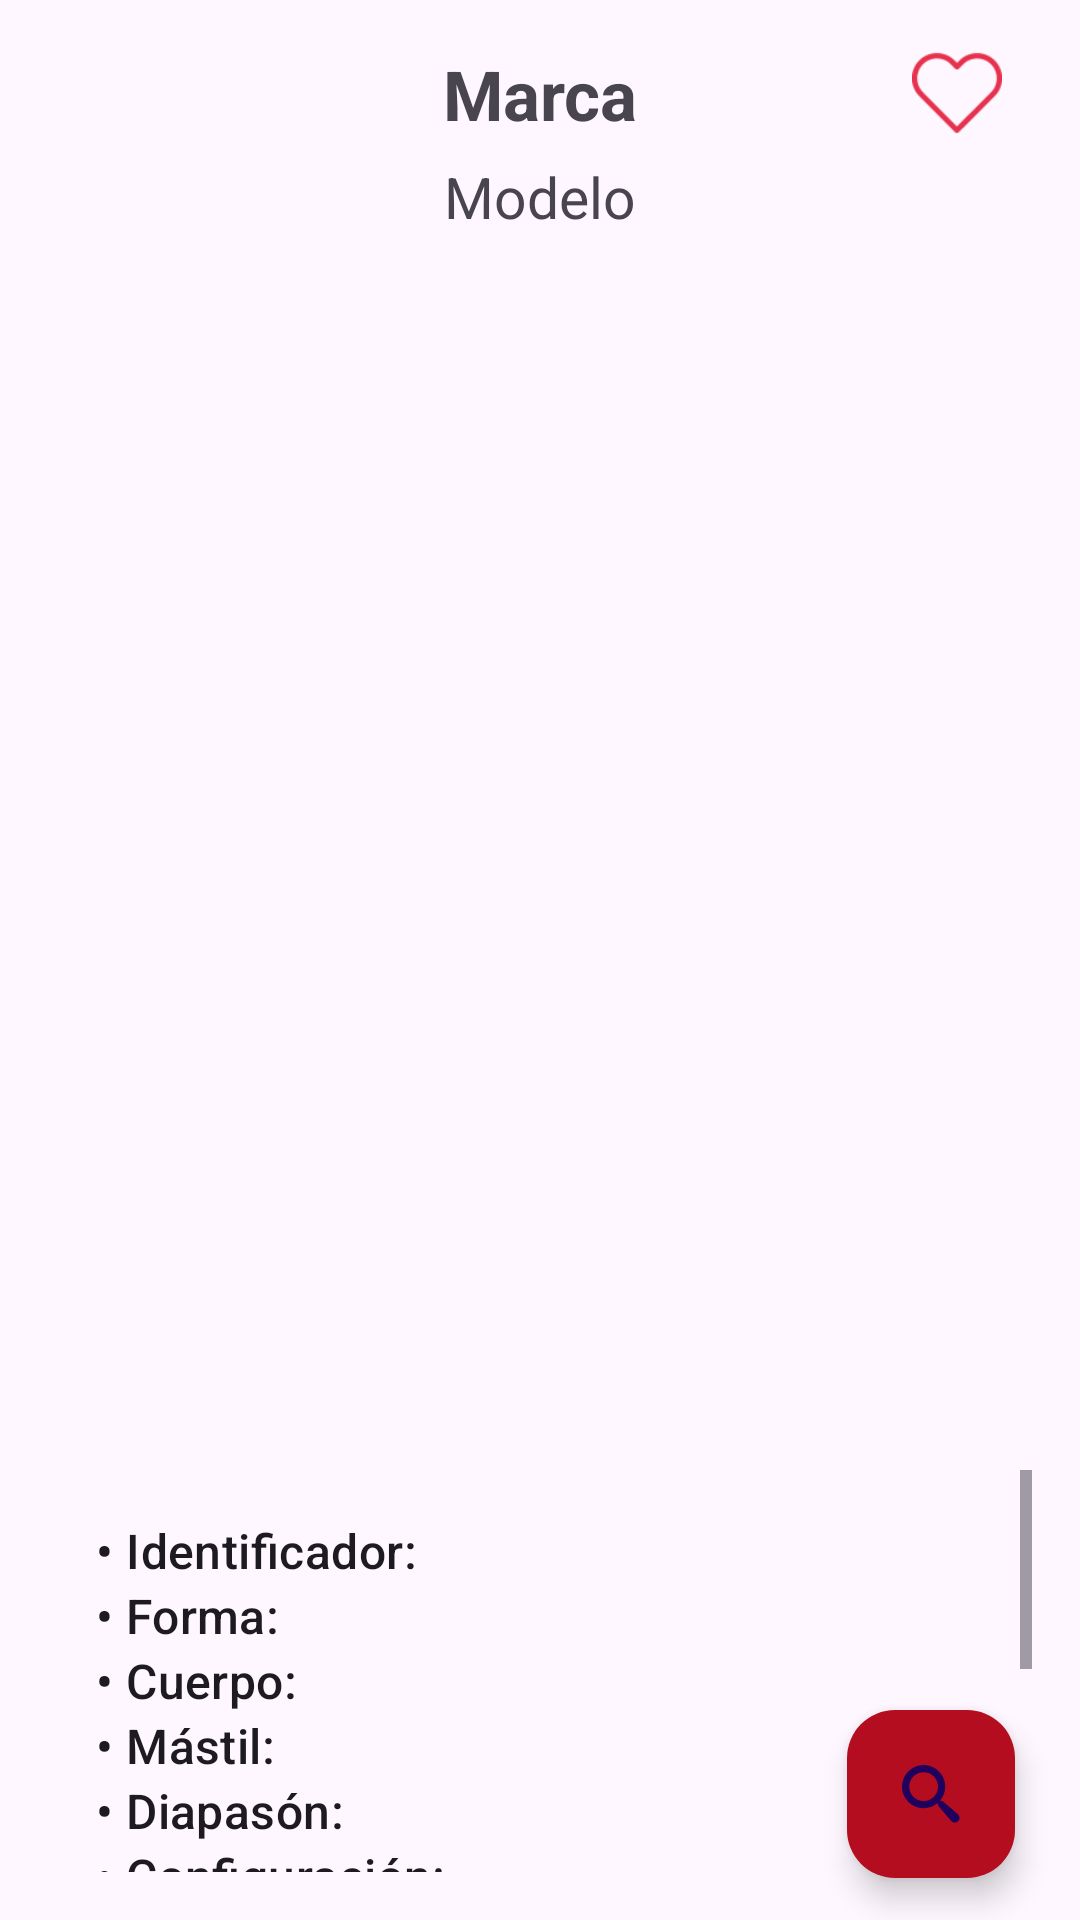

Where to tap for icons on this 1080px x 1920px app screen, as [x,y]:
fav border: [957,93]
search: [931,1794]
